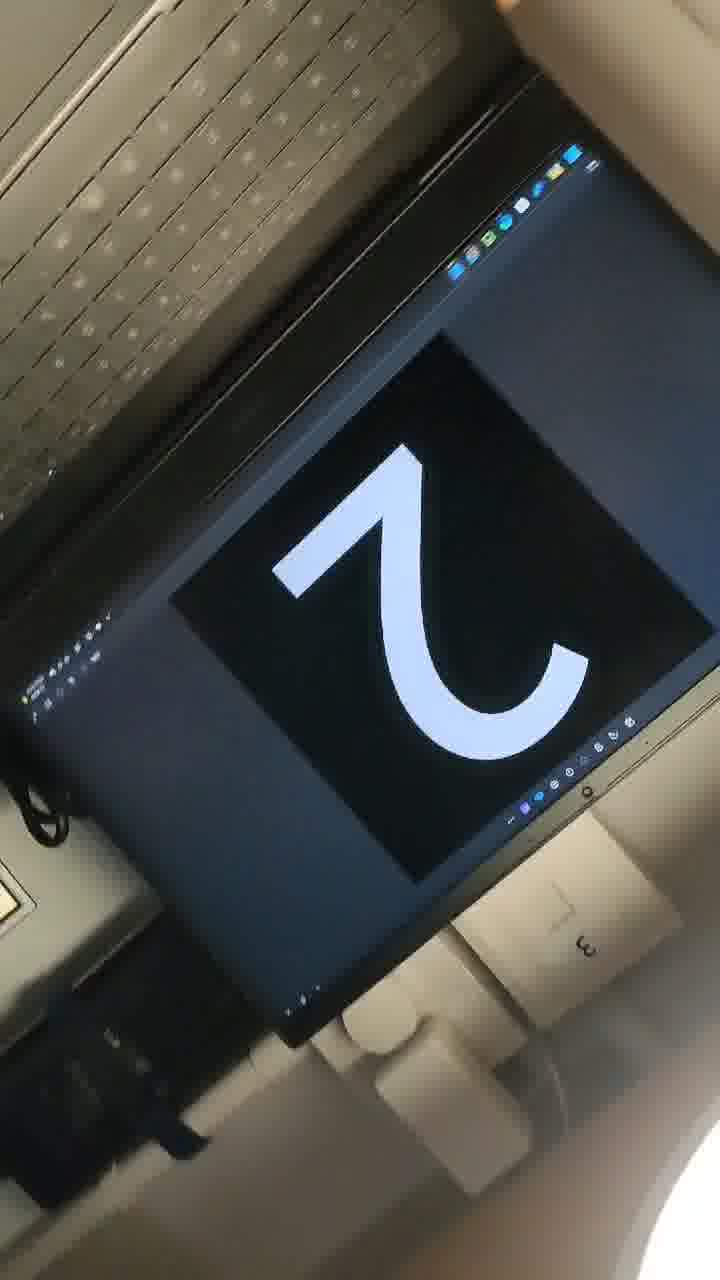two: (216, 367, 621, 838)
